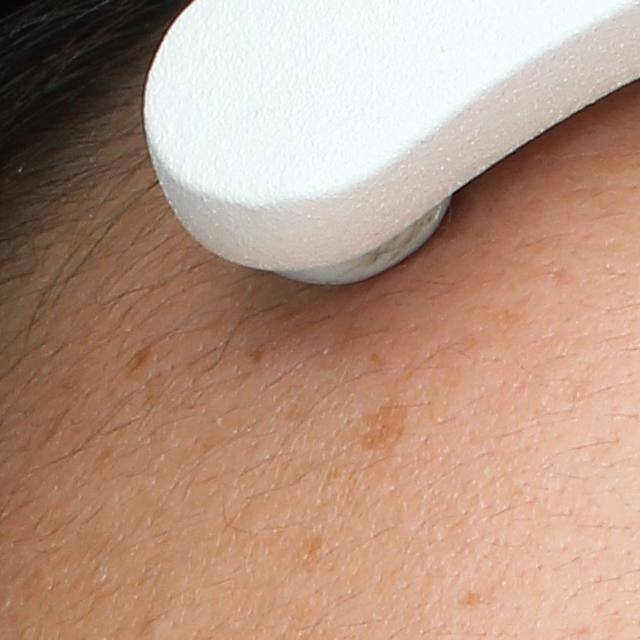melasma: (350, 394, 413, 458), (293, 530, 334, 569), (123, 342, 161, 374)
